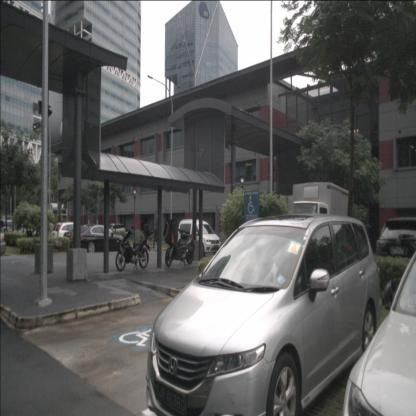human-pedestrian-adult: (153, 223, 158, 250)
vehicle-bicycle: (115, 223, 154, 274), (164, 218, 194, 268)
vehicle-car: (146, 214, 382, 416), (340, 229, 416, 415), (374, 215, 416, 278), (176, 217, 222, 258), (70, 225, 124, 254), (51, 222, 84, 246), (106, 222, 127, 241)
vehicle-truck: (292, 182, 350, 253)
